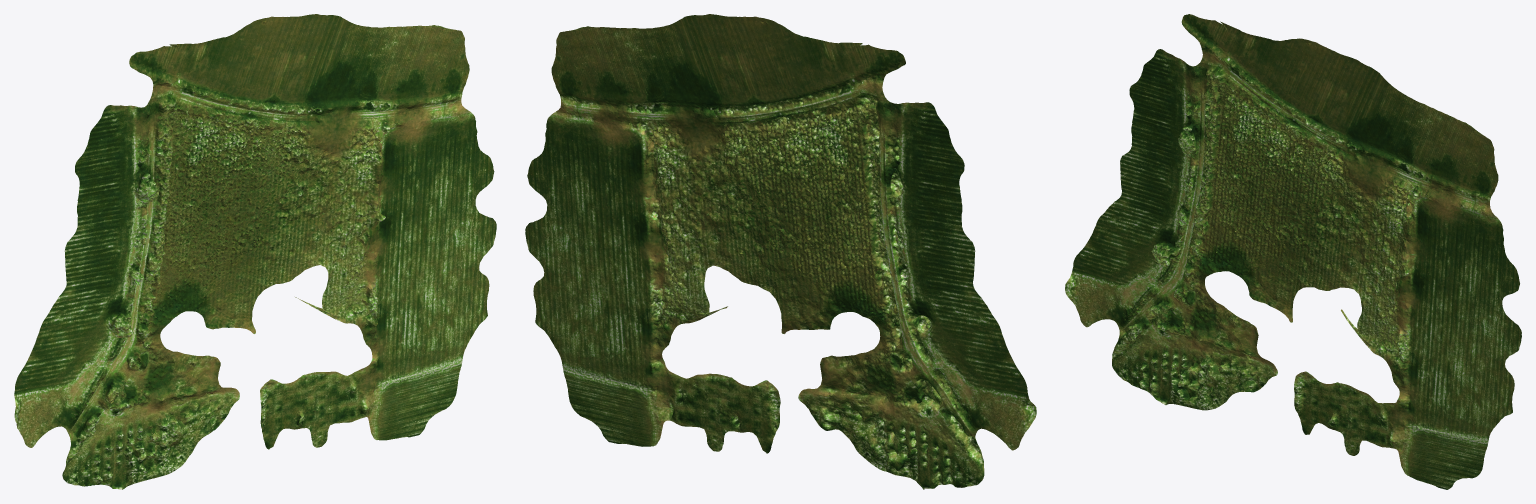
File: Khategoan_project_simplified_3d_mesh.obj
3 renders of one model, left to right at view 1: azimuth 30°, elevation 25°; view 2: azimuth 150°, elevation 25°; view 3: azimuth 330°, elevation 25°, orthographic. The views are drawn at different scales.
Bounding box in the file's own units: 139 × 123 × 8.49.
Materials: 1 (1 with a texture image).
